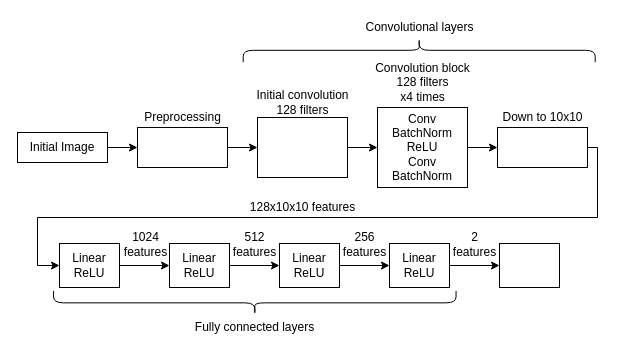
Some shapes in this 623 by 354 pixel diagram are drawn without their labels. The shapes that lost their labels are listed below. From the top down, each one's centre as x and y in pixels, then its label:
At pixel 182 147: "Resize Normalize".
At pixel 302 147: "Conv BatchNorm ReLU MaxPool".
At pixel 542 147: "AvgPool Flatten".
At pixel 529 265: "Output position".
